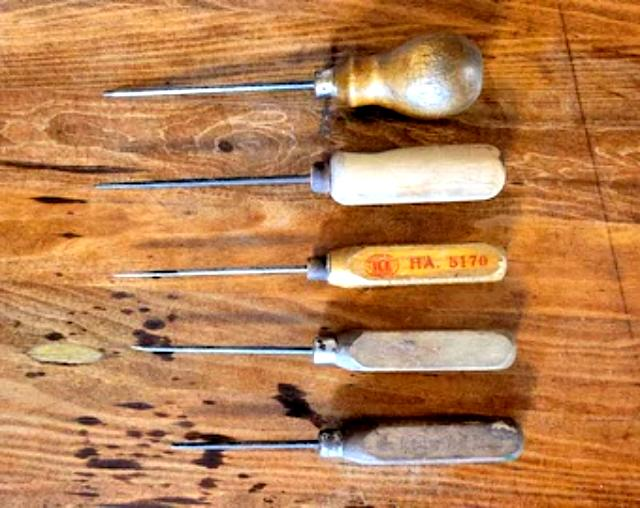ice pick: (102, 30, 482, 122), (94, 141, 508, 205), (116, 241, 508, 289), (173, 416, 525, 464), (130, 332, 516, 372)
